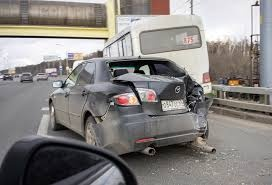Dent: (181, 70, 207, 142)
